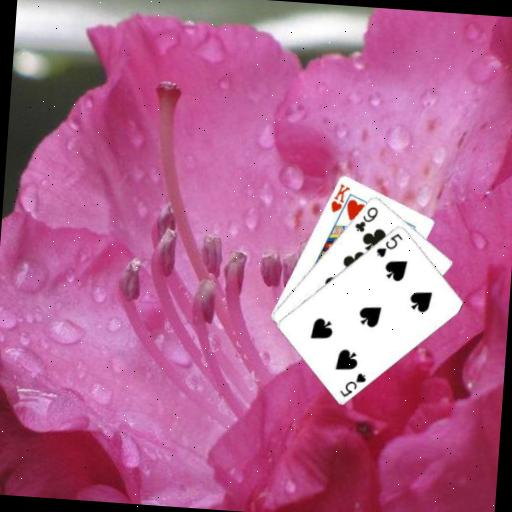5S: (336, 368, 369, 400), (373, 229, 405, 260)
9C: (351, 202, 380, 235)
KH: (327, 180, 352, 215)
